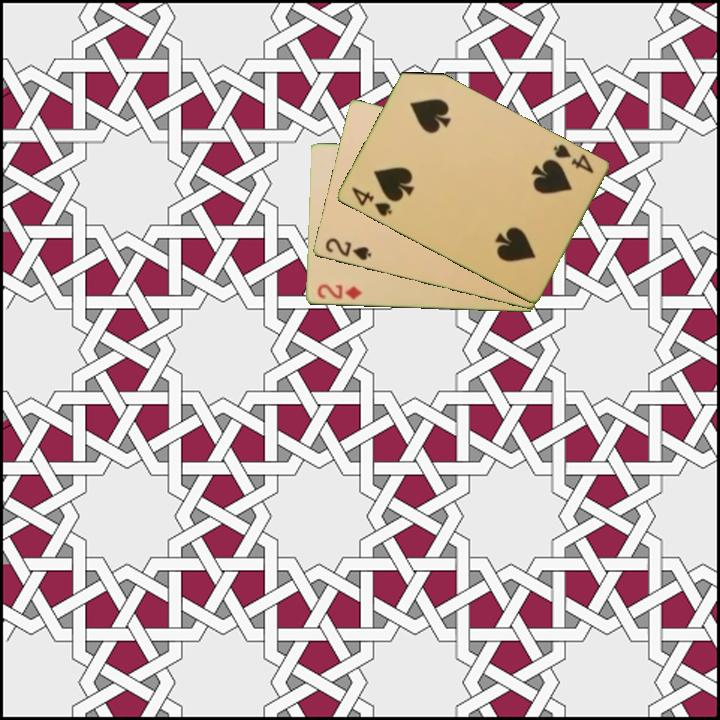2d: (313, 281, 364, 302)
2s: (321, 235, 374, 263)
4s: (348, 183, 395, 220), (549, 141, 597, 176)
